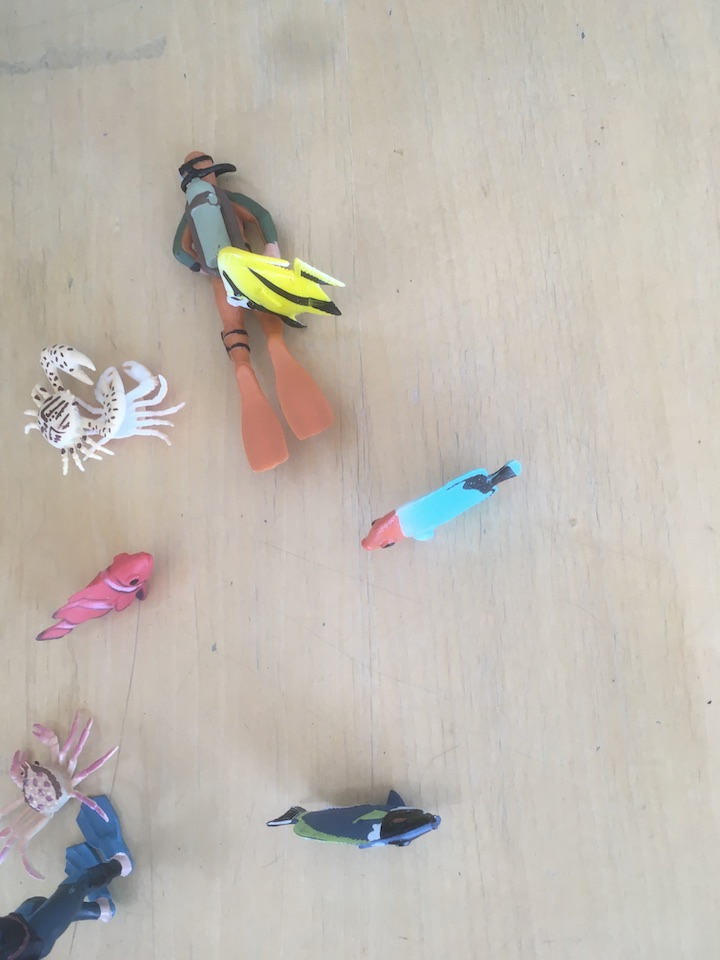crab: (1, 704, 116, 881), (22, 344, 127, 475), (55, 357, 188, 449)
danger: (208, 242, 348, 334)
diver: (171, 150, 341, 473), (1, 789, 136, 960)
fish: (352, 456, 527, 556), (30, 545, 157, 650), (260, 787, 445, 857)
